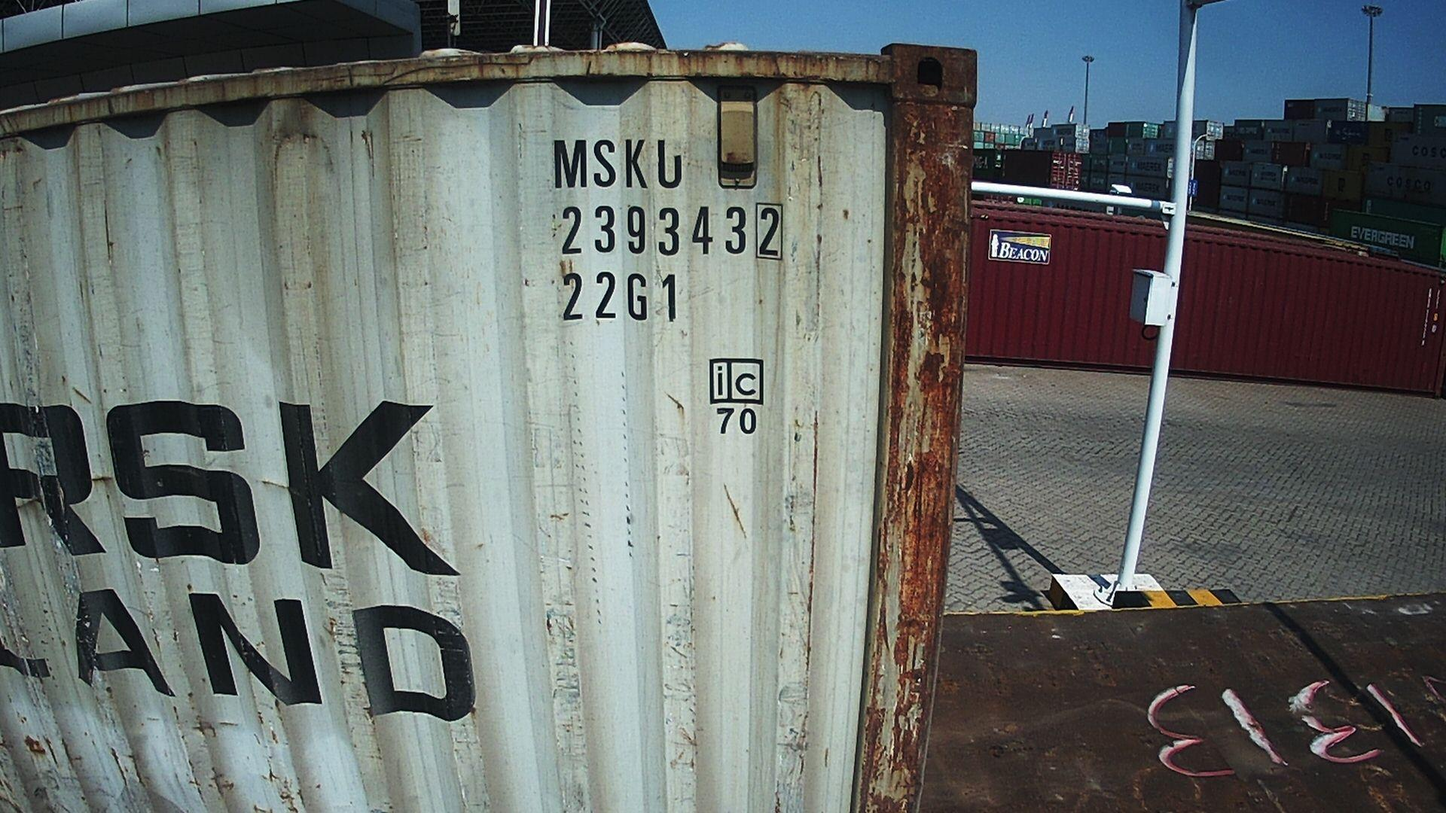container-numbers: (554, 201, 787, 263), (548, 133, 685, 194), (558, 269, 685, 327)
